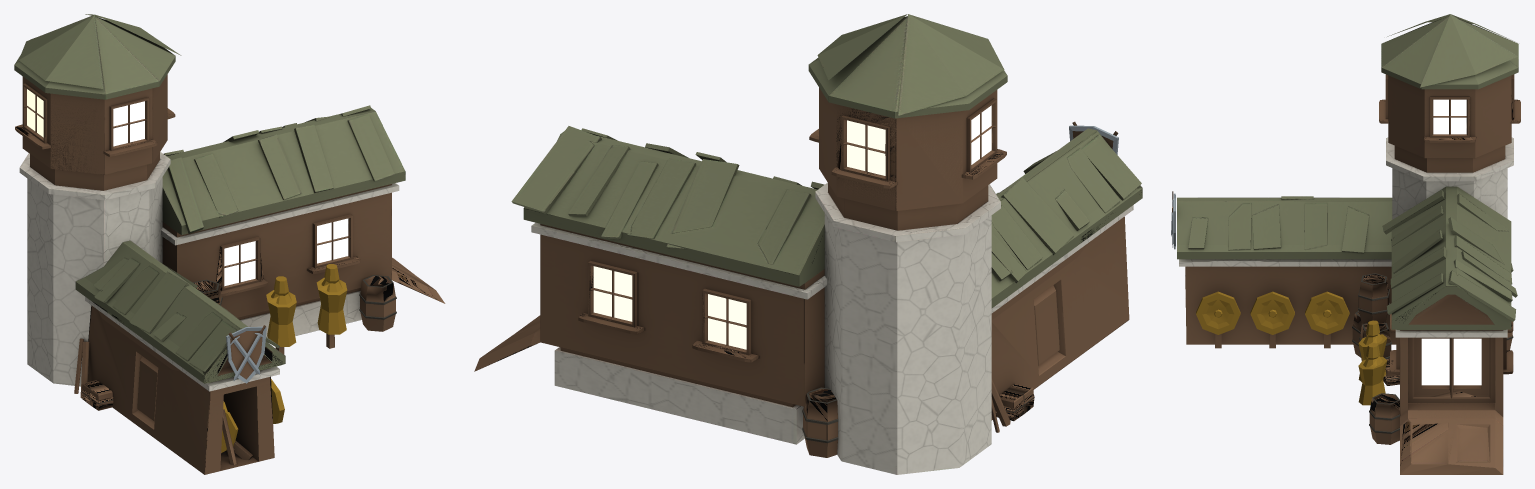
Rendered from barracks-awh5p_-0.gltf.
3 views of the same model, side by side, from view 1: azimuth 30°, elevation 25°; view 2: azimuth 150°, elevation 25°; view 3: azimuth 270°, elevation 25° (orthographic). The views are drawn at different scales.
Visible parts, largest first — view 1: Cube.013, Cube.013_far; view 2: Cube.013, Cube.013_far; view 3: Cube.013, Cube.013_far.
Boxes of the visible parts, x1,y1,x2,y2 form: Cube.013: [14, 14, 442, 474]; Cube.013_far: [15, 76, 445, 474]; Cube.013: [474, 14, 1142, 474]; Cube.013_far: [482, 88, 1142, 471]; Cube.013: [1171, 14, 1520, 474]; Cube.013_far: [1185, 75, 1519, 474].
Bounding box in the file's own units: 11.15 × 9.54 × 9.49.
7 materials, 3 textured.
